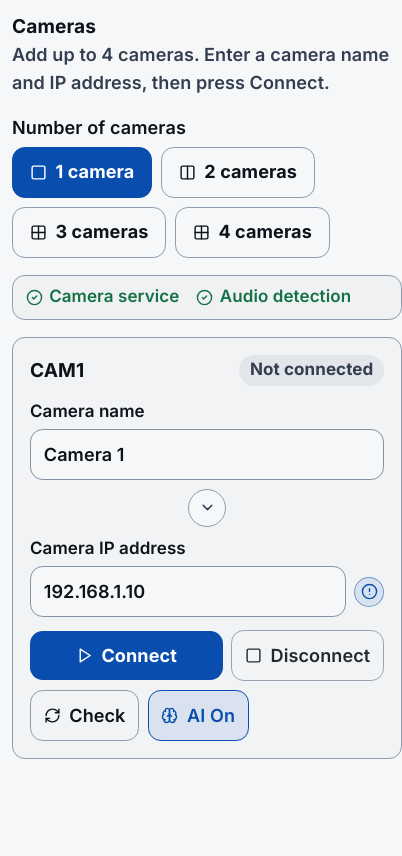
Test: camera connection status › waits for confirmed readiness before showing success even when start returns a stream URL
Later steps or results of the test are not shown.
Click the button "Connect" at (126, 656), box [30, 631, 223, 680]
Wait 2500 ms
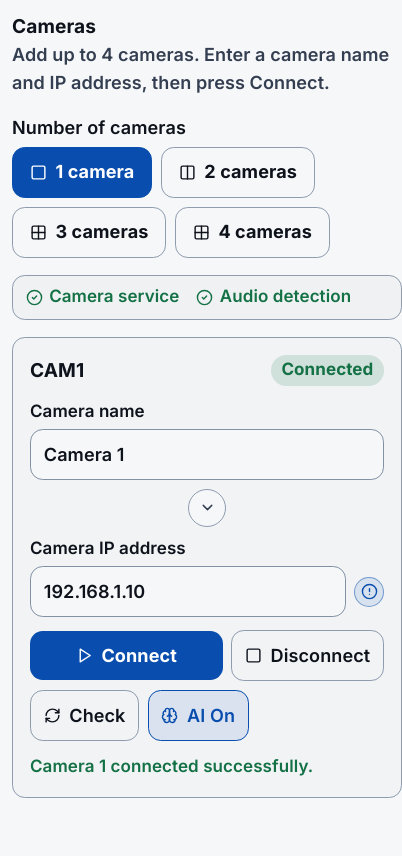
Check: the button "Disconnect" is enabled, box [231, 630, 384, 681]
Check: the message reads "Camera 1 connected successfully.", box [30, 757, 313, 777]
